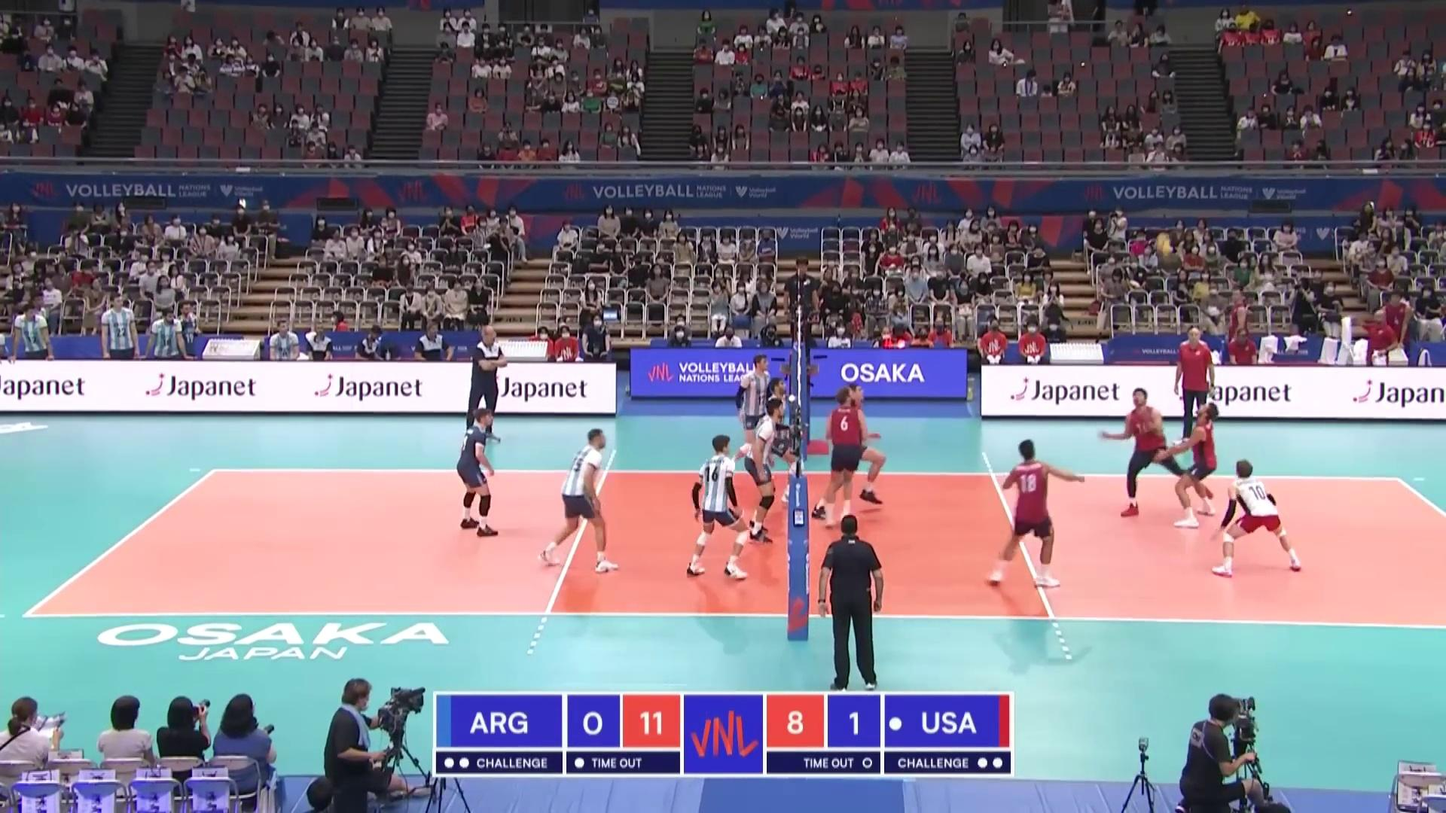player: (986, 439, 1087, 588), (1104, 385, 1214, 516), (537, 427, 616, 574), (1210, 460, 1305, 576), (812, 382, 887, 519), (685, 436, 747, 581), (1160, 401, 1220, 530), (821, 388, 865, 528), (745, 401, 786, 547), (455, 406, 499, 536), (733, 356, 775, 475), (764, 377, 799, 507)
refree: (818, 513, 883, 685), (783, 255, 820, 361)
